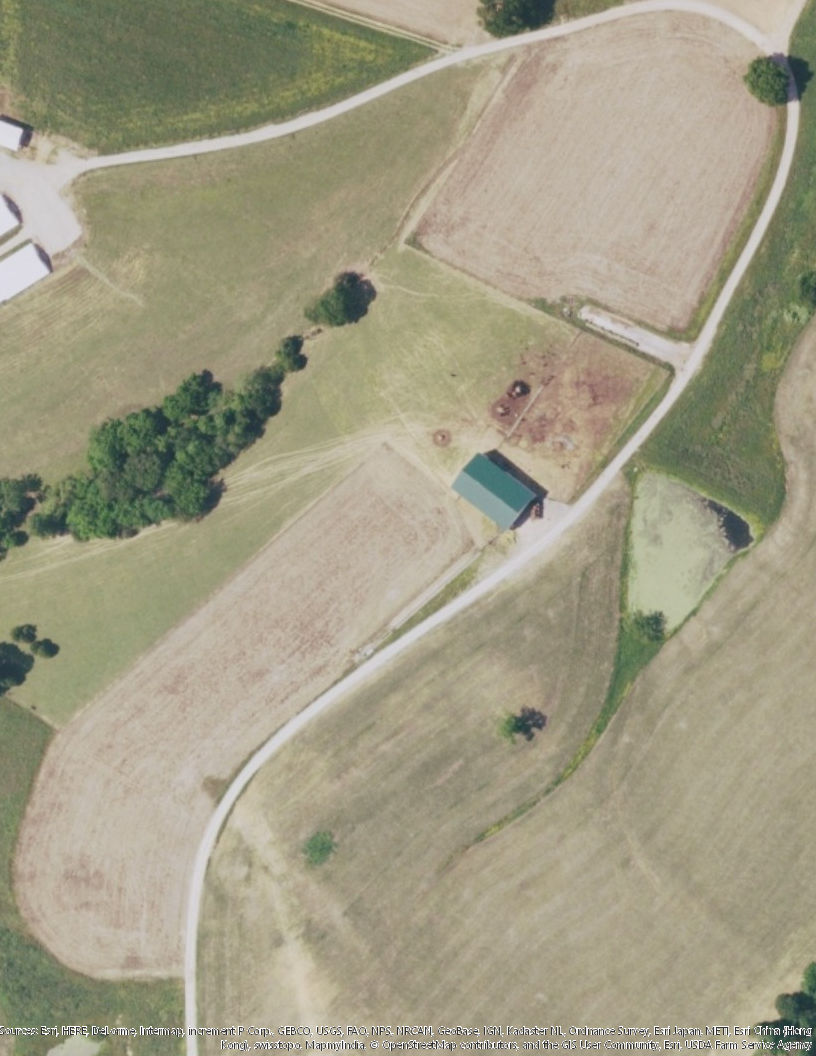cafo: (1, 239, 56, 309), (1, 191, 26, 246)
